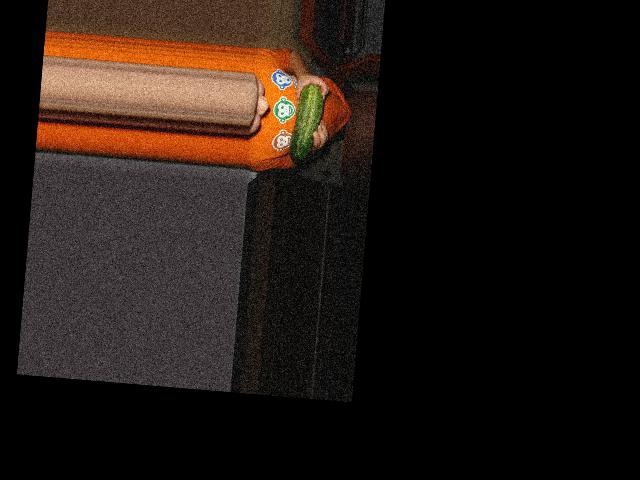cucumber: (288, 82, 325, 164)
